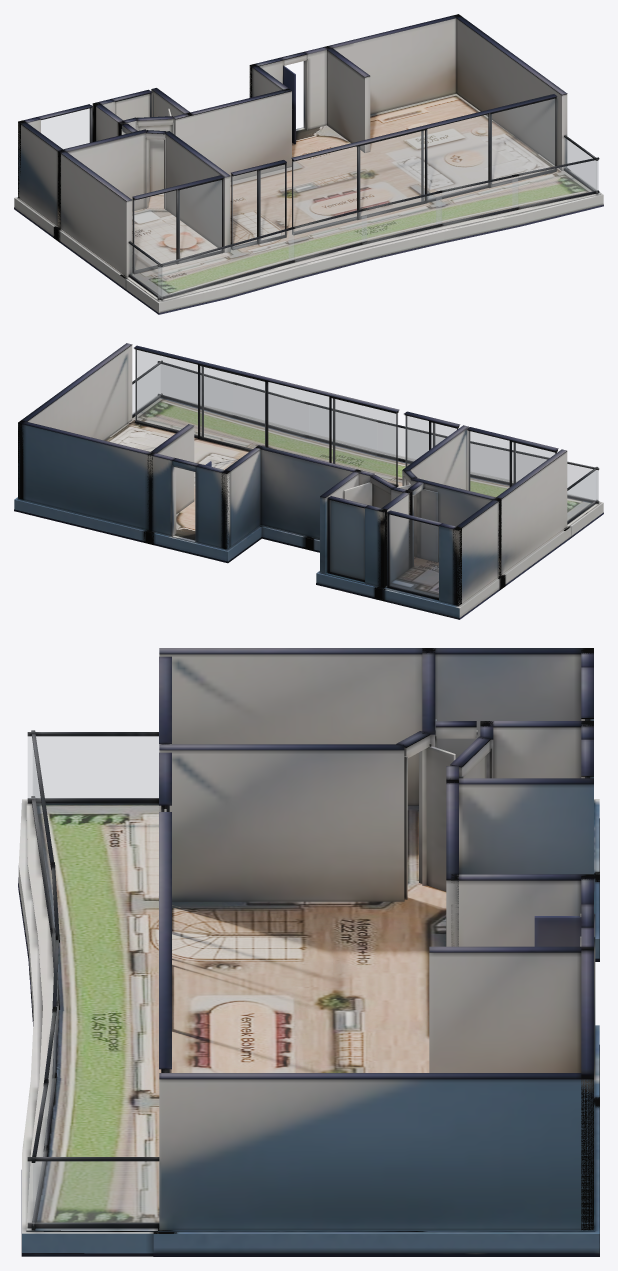
3 renders of one model, top to bottom at view 1: azimuth 30°, elevation 25°; view 2: azimuth 150°, elevation 25°; view 3: azimuth 270°, elevation 25°, orthographic. The views are drawn at different scales.
Parts seen in each view (by area): view 1: plan, glass4_m, glass2_m, railg6_m, glass3_m, railg2_m, railg3_m, railg4_m, railg5_m, glass0_m, railg1_m, railg0_m; view 2: plan, glass4_m, glass0_m, glass2_m, railg6_m, glass1_m, railg2_m, railg3_m, railg4_m, glass3_m, railg5_m, railg1_m (+1 smaller); view 3: plan, railg0_m, railg1_m, railg6_m.
Part boxes in pixels (x1,y1,x2,y2): plan: [14, 14, 603, 314]; glass4_m: [293, 99, 554, 232]; glass2_m: [134, 180, 221, 271]; railg6_m: [158, 229, 293, 297]; glass3_m: [232, 165, 284, 247]; railg2_m: [512, 160, 598, 207]; railg3_m: [436, 176, 517, 224]; railg4_m: [362, 193, 441, 241]; railg5_m: [289, 210, 366, 260]; glass0_m: [41, 108, 89, 148]; railg1_m: [129, 244, 162, 297]; railg0_m: [565, 138, 597, 191]; plan: [14, 343, 603, 619]; glass4_m: [135, 349, 395, 483]; glass0_m: [389, 515, 438, 597]; glass2_m: [468, 431, 554, 496]; railg6_m: [471, 444, 598, 501]; glass1_m: [330, 500, 364, 579]; railg2_m: [161, 364, 232, 414]; railg3_m: [238, 386, 304, 434]; railg4_m: [310, 405, 376, 452]; glass3_m: [405, 416, 458, 466]; railg5_m: [383, 424, 444, 460]; railg1_m: [567, 470, 596, 520]; plan: [18, 648, 599, 1256]; railg0_m: [28, 1161, 158, 1223]; railg1_m: [28, 736, 158, 798]; railg6_m: [33, 748, 53, 930].
Bounding box in the file's own units: 13.9 × 2.62 × 7.85.
2 materials, 1 textured.
